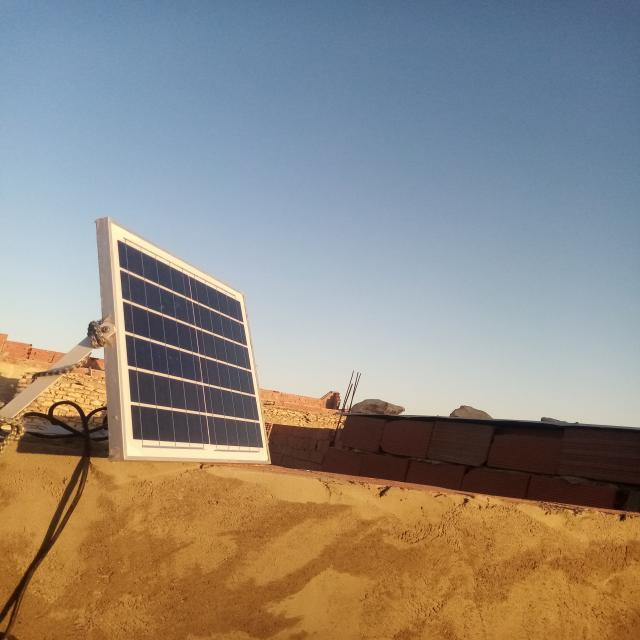no faulty: (107, 220, 272, 462)
